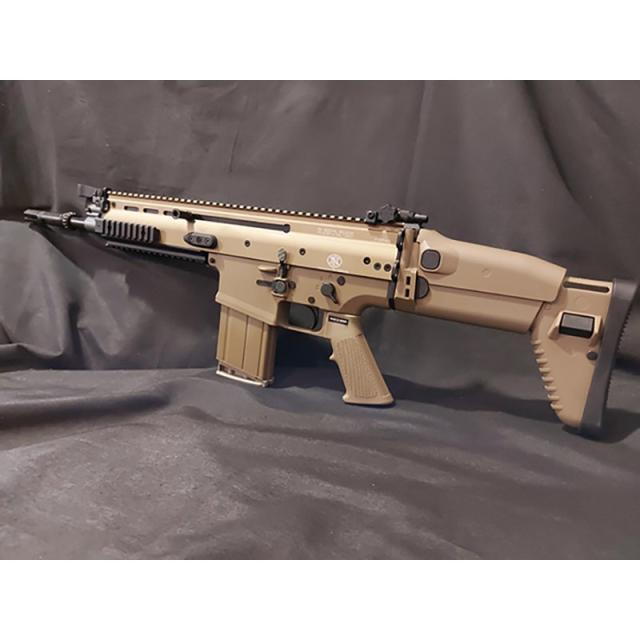Gun: (28, 154, 640, 458)
